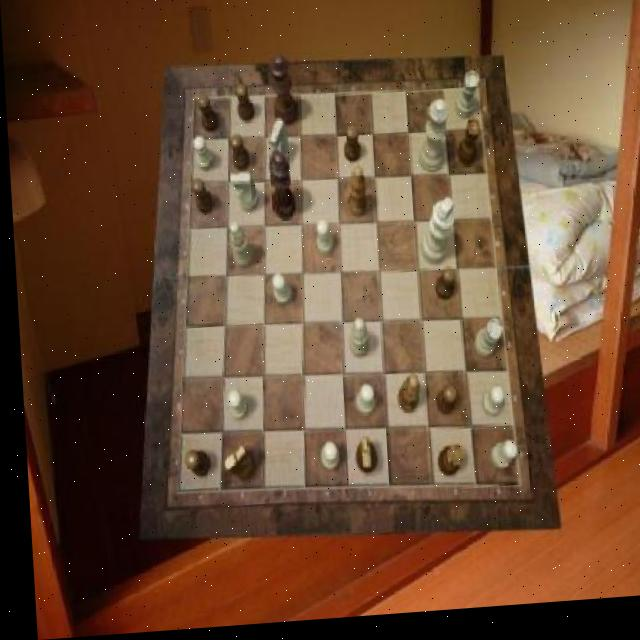bishop: (343, 170, 365, 222), (391, 380, 416, 419)
black-bishop: (265, 153, 293, 225)
black-king: (217, 447, 250, 485), (348, 441, 373, 480)
black-knight: (188, 181, 212, 218), (194, 97, 216, 137), (233, 87, 253, 127), (178, 453, 204, 482), (431, 390, 453, 423), (339, 129, 358, 167), (228, 137, 247, 175), (431, 274, 452, 308)
black-pawn: (267, 57, 298, 133)
black-queen: (453, 125, 480, 174), (431, 451, 459, 485)
black-rook: (225, 225, 250, 272), (342, 323, 364, 364)
white-bishop: (414, 204, 454, 272)
white-king: (228, 177, 257, 218), (266, 124, 289, 171)
white-knight: (190, 137, 213, 173), (485, 449, 513, 478), (476, 392, 500, 424), (311, 223, 330, 260), (222, 392, 243, 424), (268, 278, 289, 310), (349, 389, 369, 421), (315, 447, 334, 475)
white-pawn: (413, 105, 449, 178)
white-queen: (451, 79, 479, 126), (467, 324, 498, 363)
